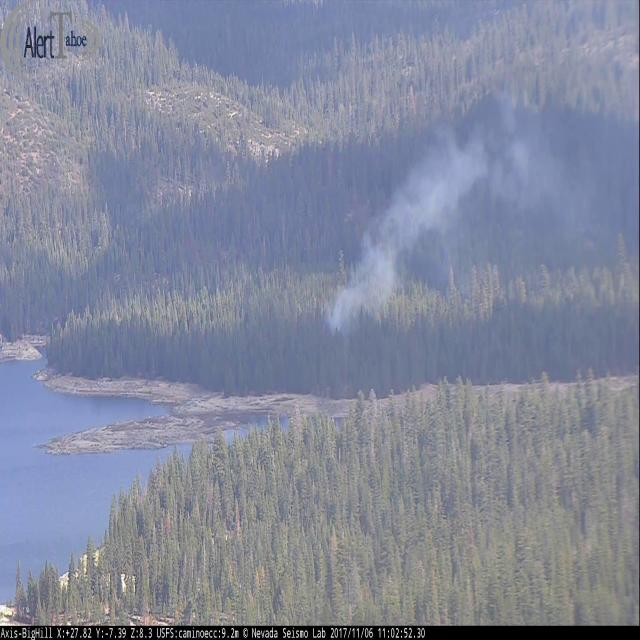smoke: (323, 65, 640, 337)
